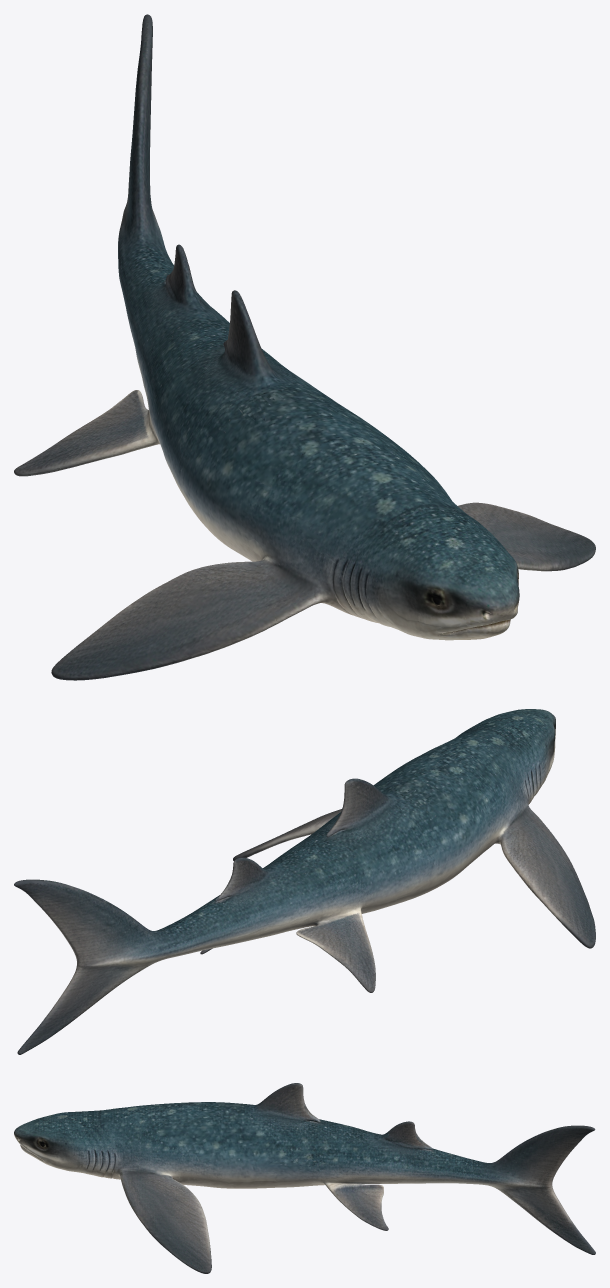
3 renders of one model, top to bottom at view 1: azimuth 30°, elevation 25°; view 2: azimuth 150°, elevation 25°; view 3: azimuth 270°, elevation 25°, orthographic. The views are drawn at different scales.
Visible parts, largest first — view 1: Authored orientation; view 2: Authored orientation; view 3: Authored orientation.
Boxes of the visible parts, x1,y1,x2,y2 form: Authored orientation: (14, 14, 595, 680); Authored orientation: (14, 709, 595, 1054); Authored orientation: (14, 1083, 595, 1273).
Size of the model in its own units: 0.5359 by 0.2514 by 1.
Materials: 1 (1 with a texture image).
